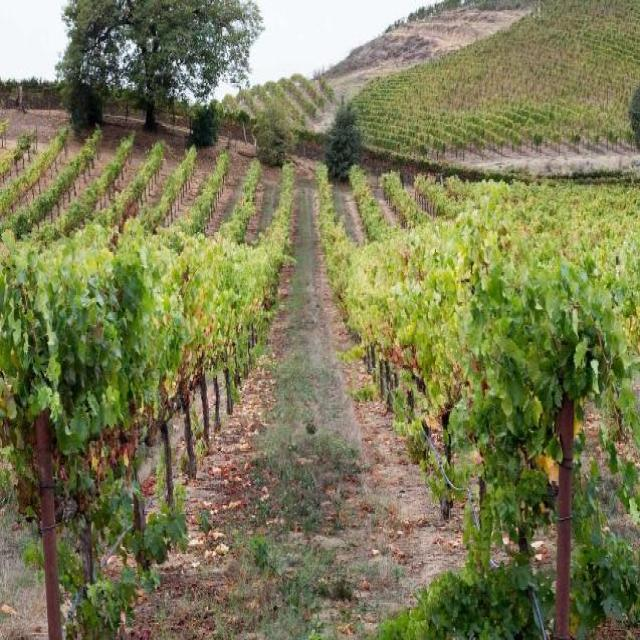row: (114, 183, 502, 639)
